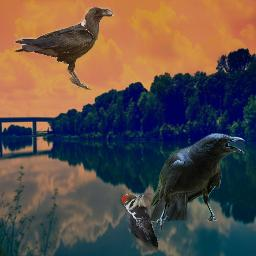Crow: (147, 133, 245, 231), (14, 7, 114, 90)
Woodpecker: (120, 193, 158, 251)
